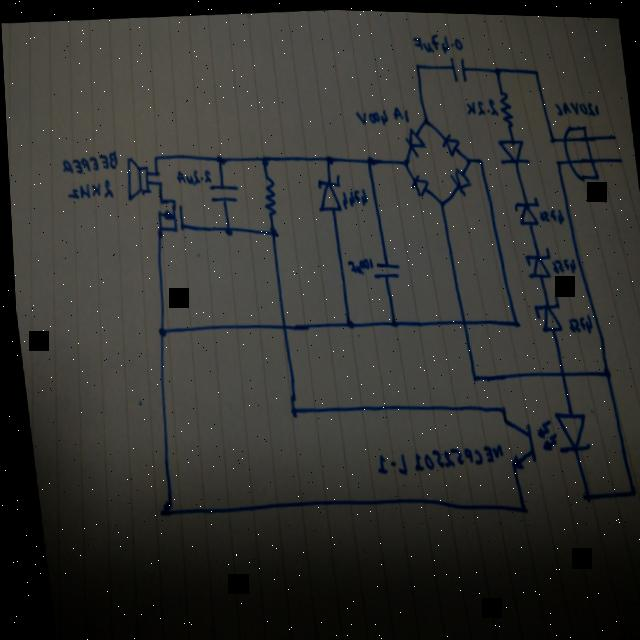capacitor: (368, 251, 399, 282), (205, 180, 239, 203), (443, 51, 468, 81)
crossover: (552, 365, 564, 375), (455, 312, 464, 325), (275, 318, 284, 329)
diode: (528, 288, 559, 331), (310, 170, 341, 211), (493, 132, 529, 165), (520, 241, 550, 280), (509, 190, 538, 224), (445, 161, 470, 194), (401, 123, 424, 154), (405, 169, 428, 195), (438, 127, 459, 153)
junction: (151, 494, 171, 517), (360, 150, 374, 166), (151, 322, 165, 337), (339, 313, 353, 328), (281, 400, 294, 416), (256, 150, 269, 165), (211, 150, 224, 165), (595, 360, 608, 375), (320, 149, 332, 165), (218, 221, 230, 236), (512, 497, 524, 512), (621, 480, 633, 494), (265, 222, 276, 237), (575, 484, 586, 499), (418, 112, 430, 125), (490, 60, 502, 73), (384, 313, 395, 326), (491, 398, 502, 411), (465, 367, 476, 379), (433, 192, 443, 205), (507, 313, 516, 327), (460, 150, 469, 164), (398, 153, 409, 164), (472, 151, 482, 163), (546, 130, 556, 141), (148, 150, 158, 160), (411, 57, 420, 68), (530, 62, 539, 73), (551, 152, 560, 163), (150, 165, 159, 176), (153, 177, 160, 185)
resistor: (256, 171, 276, 213), (495, 84, 514, 124)
terminal: (608, 127, 617, 136), (613, 151, 622, 160)
text: (367, 435, 500, 477), (56, 146, 117, 175), (410, 26, 463, 53), (62, 174, 113, 202), (551, 94, 599, 116), (170, 164, 210, 186), (462, 92, 498, 116), (337, 183, 368, 209), (352, 103, 387, 125), (562, 307, 590, 331), (343, 252, 371, 273), (535, 202, 563, 222), (547, 252, 574, 270), (390, 102, 408, 121)
transistor: (150, 193, 184, 232)
